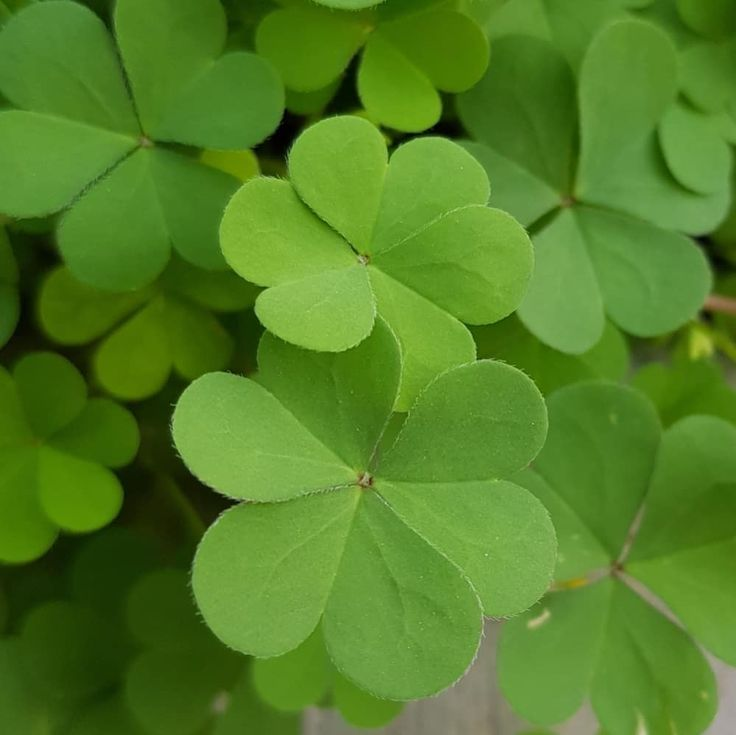daikon: (169, 324, 561, 717), (206, 111, 547, 407)
